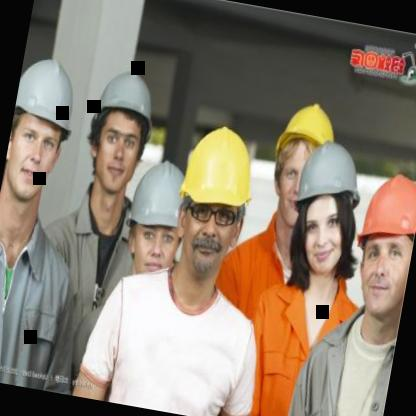helmet: (166, 120, 261, 282), (281, 134, 370, 284), (0, 52, 82, 212), (343, 164, 416, 328), (76, 64, 163, 197), (114, 153, 194, 285), (263, 96, 341, 230)
